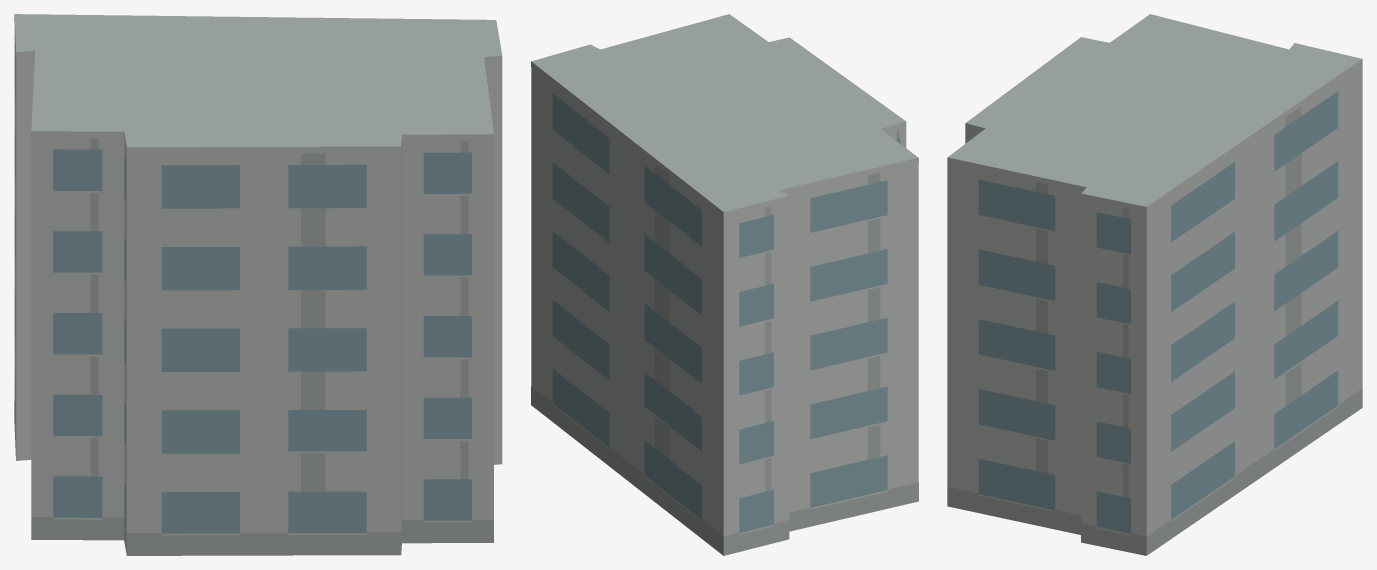
The model's file is survey-upis-32629866.glb.
3 renders of one model, left to right at view 1: azimuth 30°, elevation 25°; view 2: azimuth 150°, elevation 25°; view 3: azimuth 270°, elevation 25°, orthographic. The views are drawn at different scales.
Visible parts, largest first — view 1: survey-upis-32629866.tmp; view 2: survey-upis-32629866.tmp; view 3: survey-upis-32629866.tmp.
Boxes of the visible parts, <box> form: survey-upis-32629866.tmp: <box>14,14,502,555</box>; survey-upis-32629866.tmp: <box>531,14,918,555</box>; survey-upis-32629866.tmp: <box>947,14,1362,555</box>.
Bounding box in the file's own units: 17.97 × 15.15 × 16.34.
